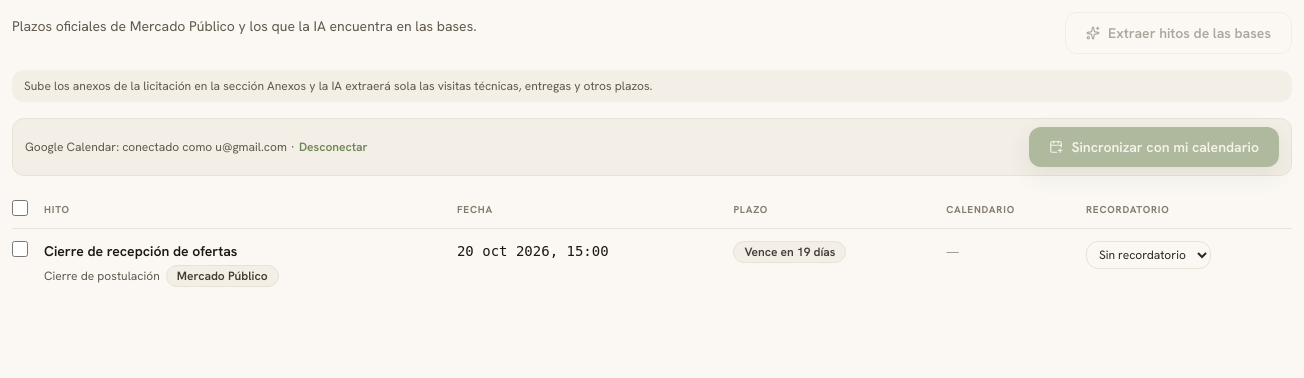
MilestonesSection › sincronización con Google Calendar › si la sincronización falla lo avisa y permite reintentar
Expected: the text "Google Calendar: conectado como u@gmail.com" is shown, [25,139,287,155]
Click the checkbox named "seleccionar cierre" at (20,249), box [12,241,28,257]
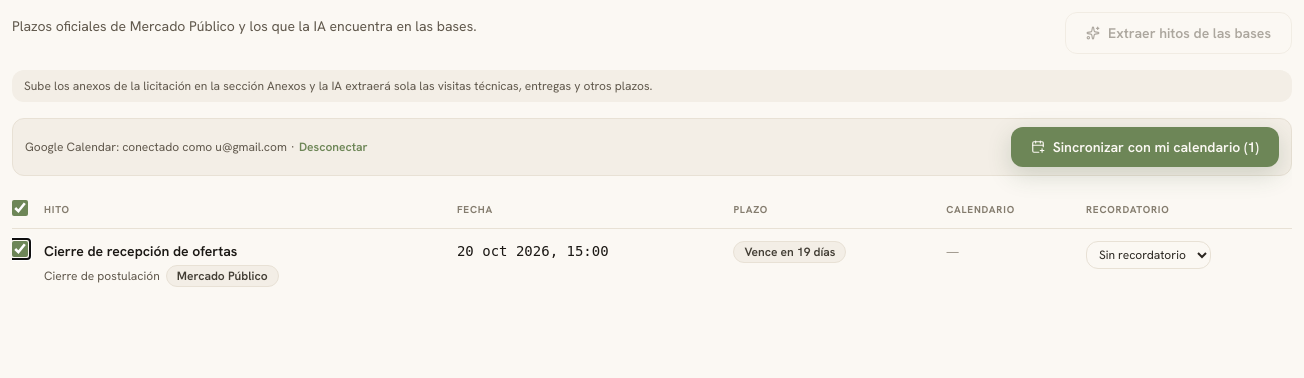
Click the button "Sincronizar con mi calendario (1)" at (1145,147), box [1011,127,1279,167]
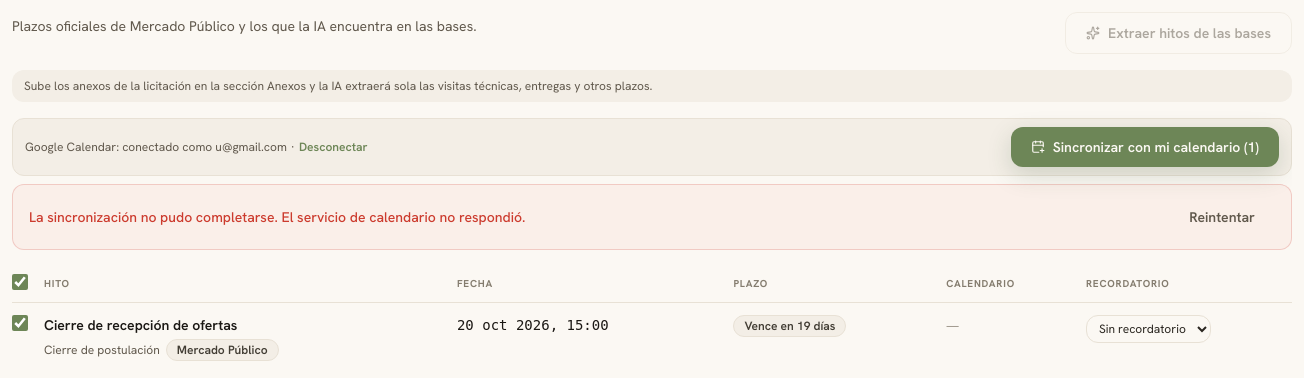
Now the message shows "La sincronización no pudo completarse.", box [29,208,525,226]
Click the button "Reintentar" at (1222,217), box [1169,197,1275,237]
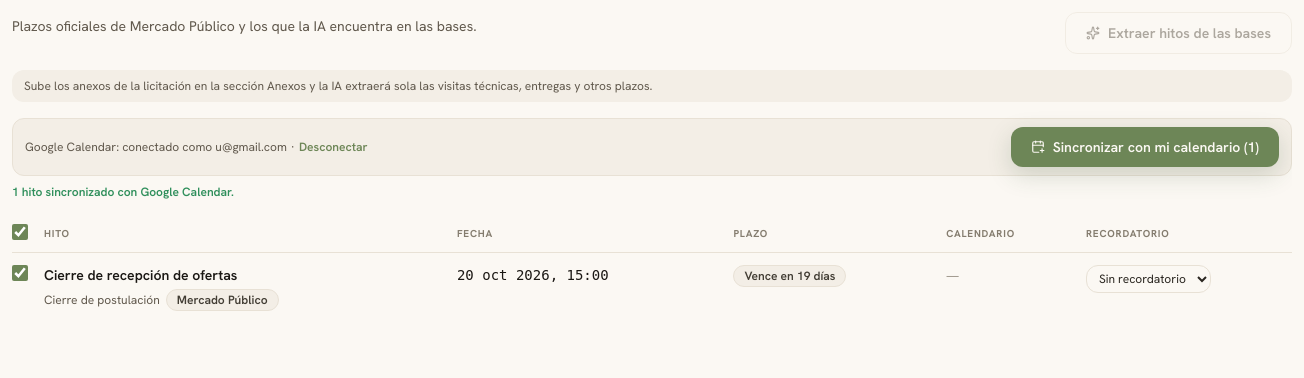
Now the text "1 hito sincronizado con Google Calendar." is shown, box [12,184,234,200]
